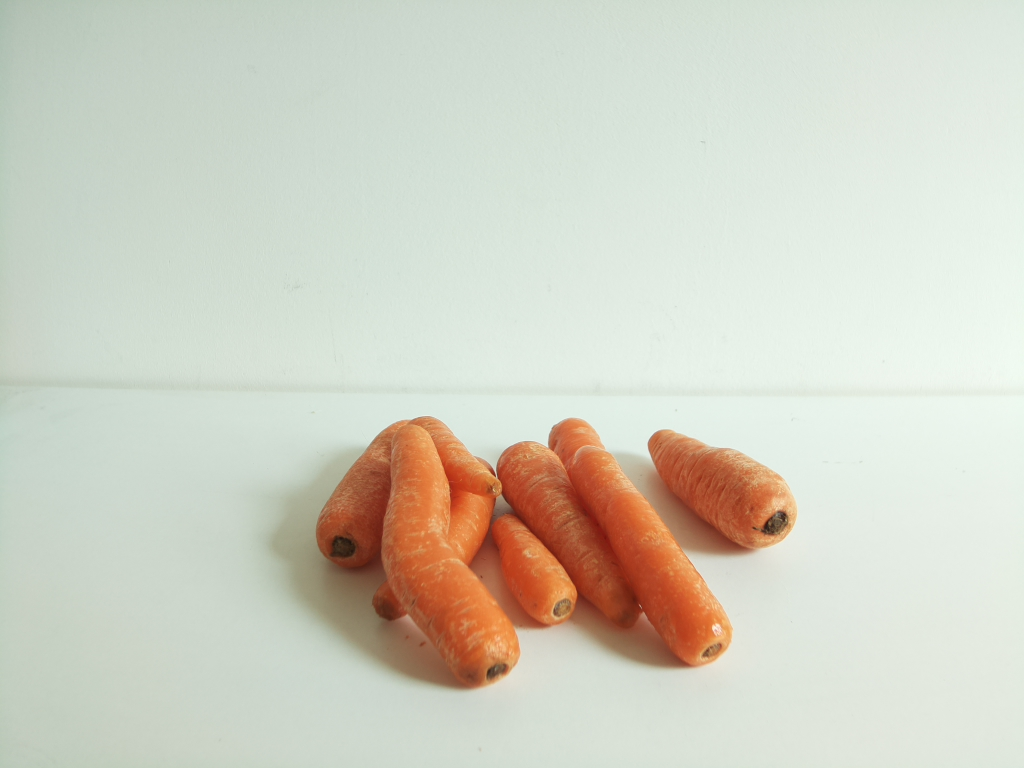carrot: (317, 408, 733, 684), (645, 426, 798, 552)
